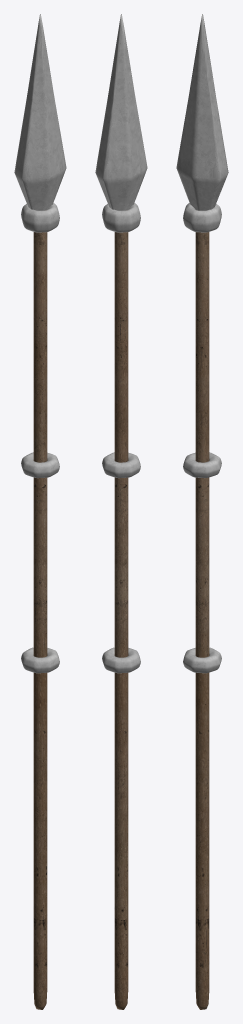
The model's file is spear.glb.
3 views of the same model, side by side, from view 1: azimuth 30°, elevation 25°; view 2: azimuth 210°, elevation 25°; view 3: azimuth 330°, elevation 25° (orthographic).
Visible parts, largest first — view 1: group6 (×2); view 2: group6 (×2); view 3: group6 (×2).
Part boxes in pixels (left/top/right/bottom): group6 (×2): left=14, top=14, right=66, bottom=1009; group6 (×2): left=95, top=14, right=147, bottom=1009; group6 (×2): left=176, top=14, right=228, bottom=1009.
Size of the model in its own units: 0.265 by 5.71 by 0.2087.
Materials: 2 (2 with a texture image).
